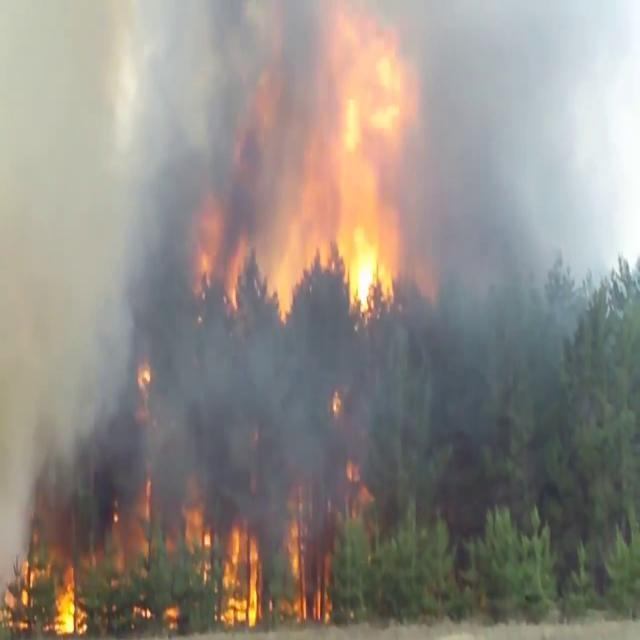Fire: (318, 18, 414, 314), (178, 491, 268, 628), (1, 533, 90, 635), (280, 500, 334, 630)
Smoke: (0, 0, 333, 589), (390, 0, 640, 378)
